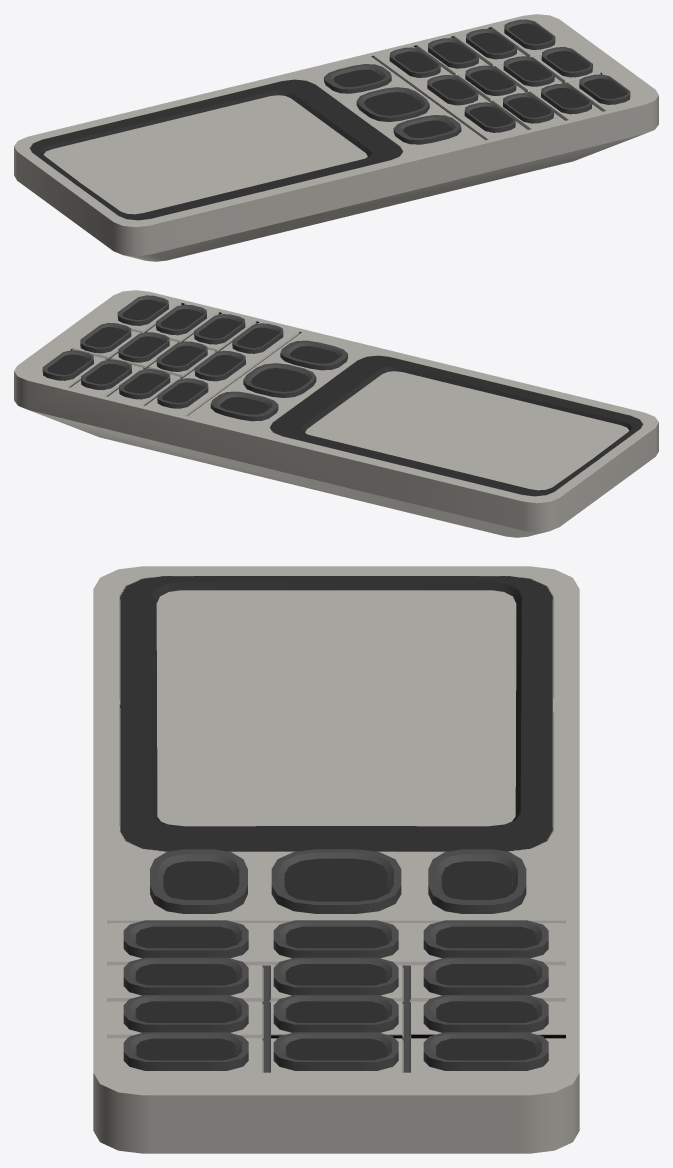
The model's file is white_feature_phone_with_buttons.glb.
3 renders of one model, top to bottom at view 1: azimuth 30°, elevation 25°; view 2: azimuth 150°, elevation 25°; view 3: azimuth 270°, elevation 25°, orthographic. The views are drawn at different scales.
Visible parts, largest first — view 1: Plane, Plane.002, Cube.002, Cube.001, Cube; view 2: Plane, Plane.002, Cube.002, Cube.001, Cube; view 3: Plane, Plane.002, Cube.002, Cube.001, Cube.
Part boxes in pixels (box(x1,y1,x2,y2)): Plane: box(14, 14, 658, 261); Plane.002: box(43, 95, 367, 214); Cube.002: box(389, 19, 630, 132); Cube.001: box(324, 64, 461, 144); Cube: box(356, 87, 429, 121); Plane: box(14, 290, 658, 537); Plane.002: box(305, 371, 629, 490); Cube.002: box(42, 295, 283, 408); Cube.001: box(210, 340, 347, 421); Cube: box(243, 363, 316, 397); Plane: box(93, 566, 579, 1153); Plane.002: box(156, 590, 516, 826); Cube.002: box(123, 920, 548, 1070); Cube.001: box(150, 849, 526, 913); Cube: box(271, 849, 401, 913).
Bounding box in the file's own units: 0.3745 × 0.0358 × 0.1455.
1 material, 1 textured.
